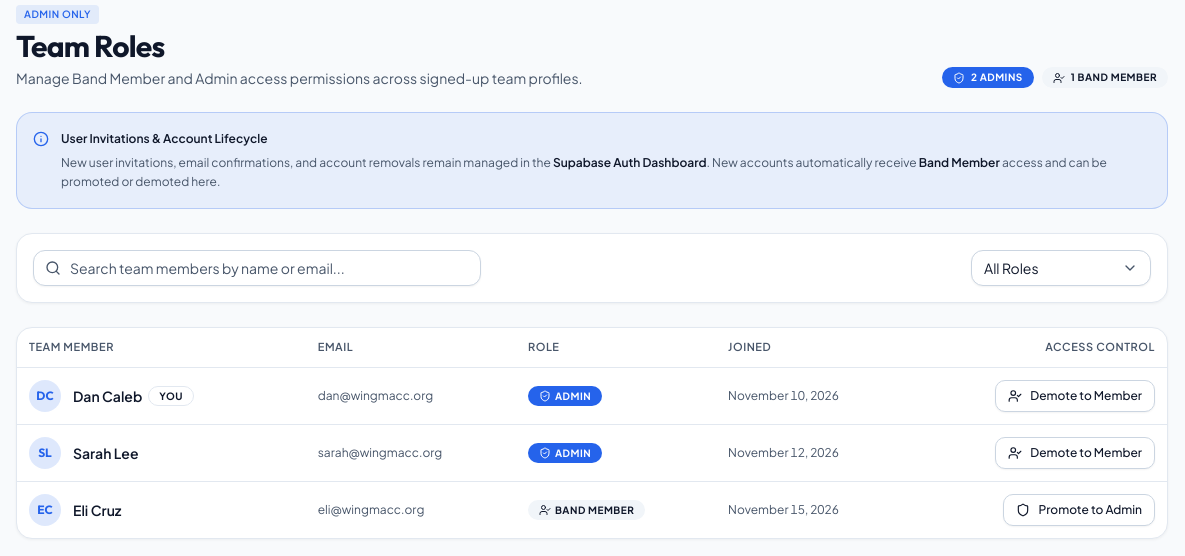
Test: TeamPage › filters profiles by search query and role dropdown with Clear Filters
This screenshot has width=1185, height=556.
Check: the text "dan@wingmacc.org" is shown, box [306, 368, 516, 424]
Check: the text "sarah@wingmacc.org" is shown, box [306, 424, 516, 482]
# Search by name or email
Type "sarah" into the search field with placeholder "Search team members by name or email..." at (257, 268), box [33, 250, 481, 286]
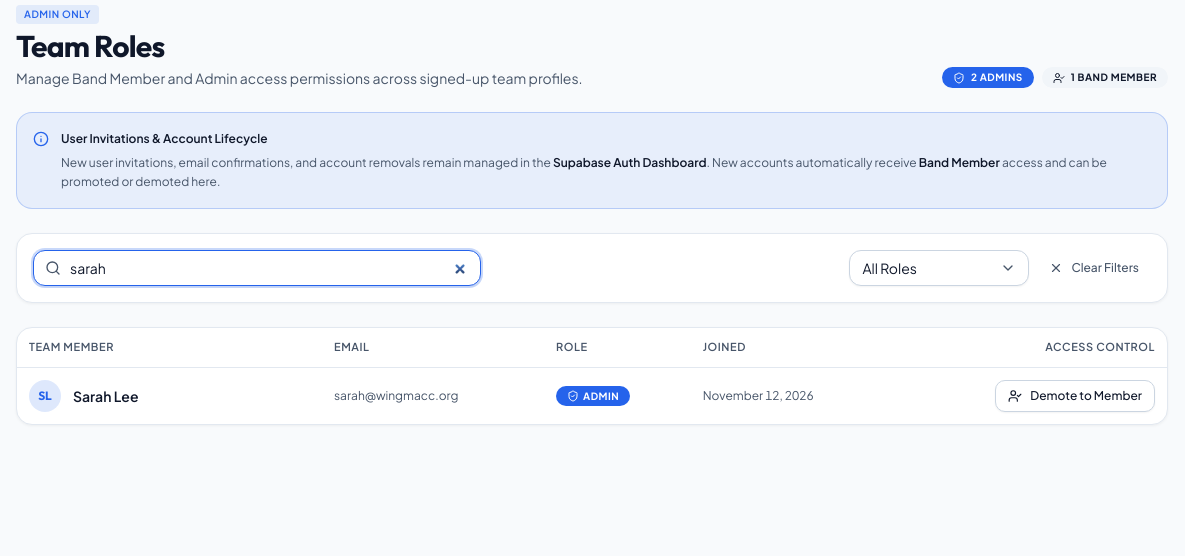
Check: the text "sarah@wingmacc.org" is shown, box [322, 368, 544, 424]
Check: the text "dan@wingmacc.org" is gone
Check: the text "eli@wingmacc.org" is gone
Click the button "Clear Filters" at (1094, 268), box [1037, 252, 1151, 284]
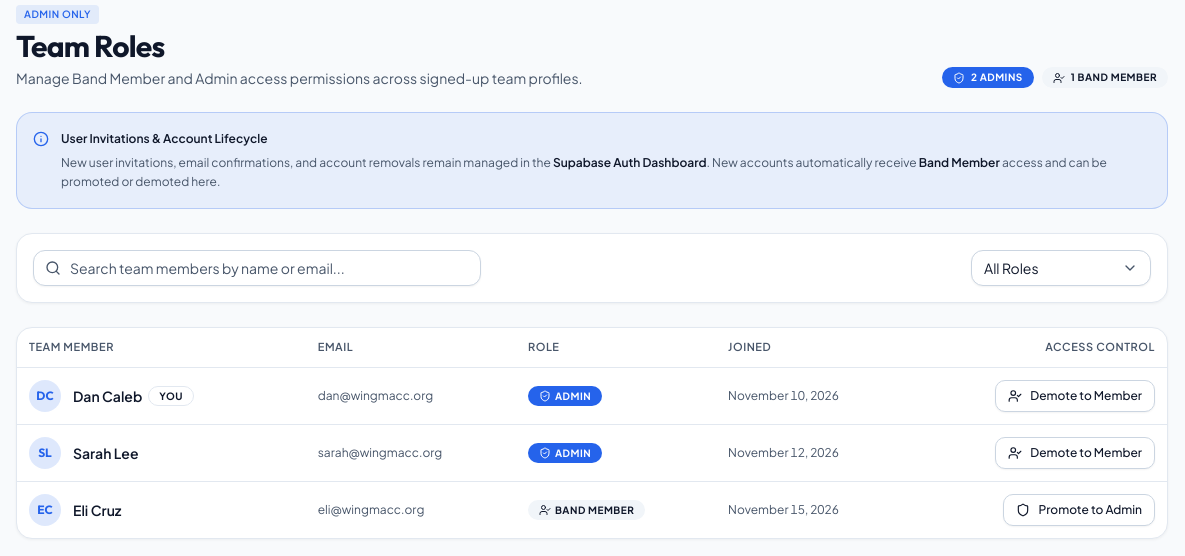
Check: the text "dan@wingmacc.org" is shown, box [306, 368, 516, 424]
Check: the text "eli@wingmacc.org" is shown, box [306, 482, 516, 538]
# Filter by Band Members
Click the dropdown named "filter by role" at (1061, 268), box [971, 250, 1151, 286]
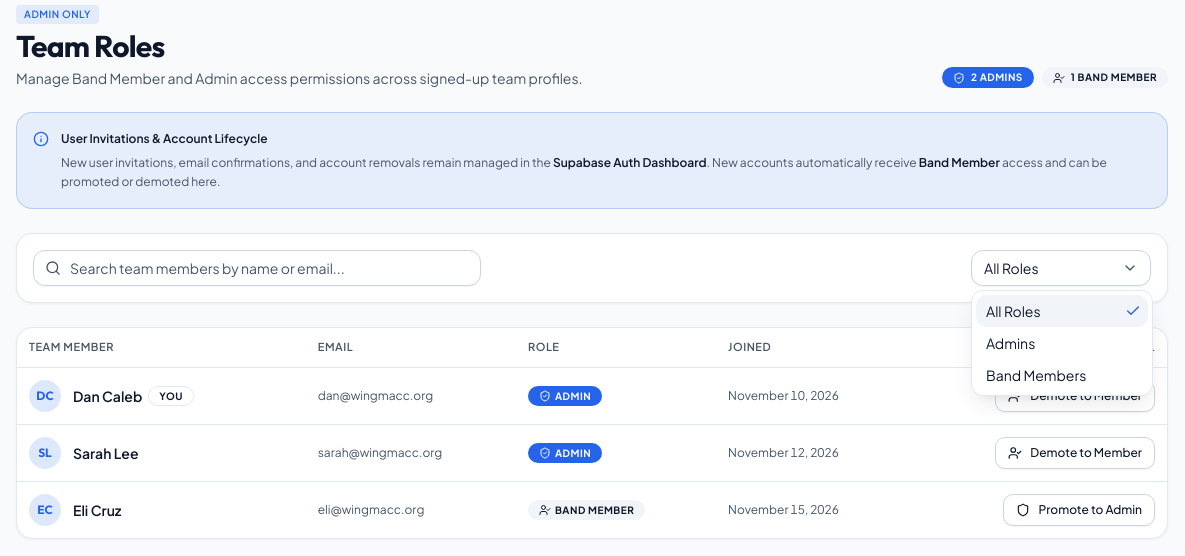
Click the option "Band Members" at (1036, 375), box [986, 366, 1086, 384]
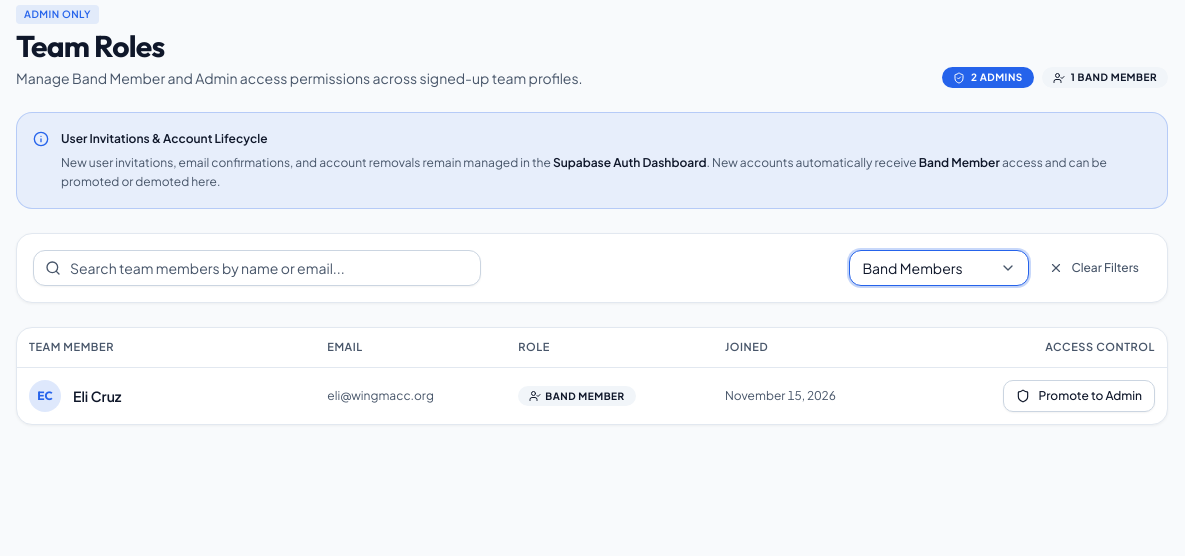
Check: the text "eli@wingmacc.org" is shown, box [315, 368, 506, 424]
Check: the text "dan@wingmacc.org" is gone
Check: the text "sarah@wingmacc.org" is gone
# Filter by Admins
Click the dropdown named "filter by role" at (939, 268), box [849, 250, 1029, 286]
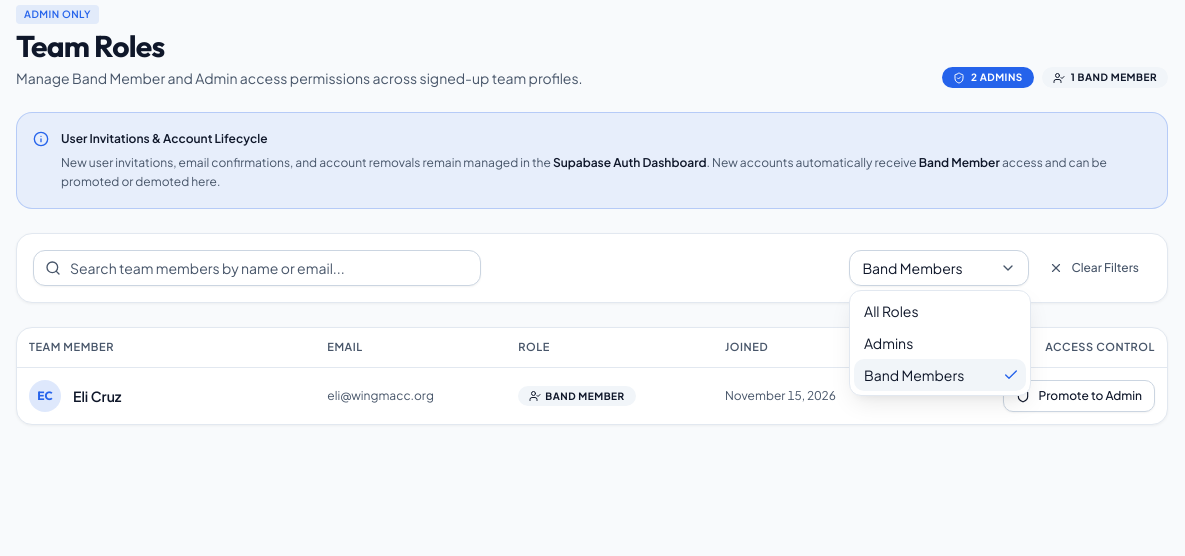
Click the option "Admins" at (889, 343), box [864, 334, 913, 352]
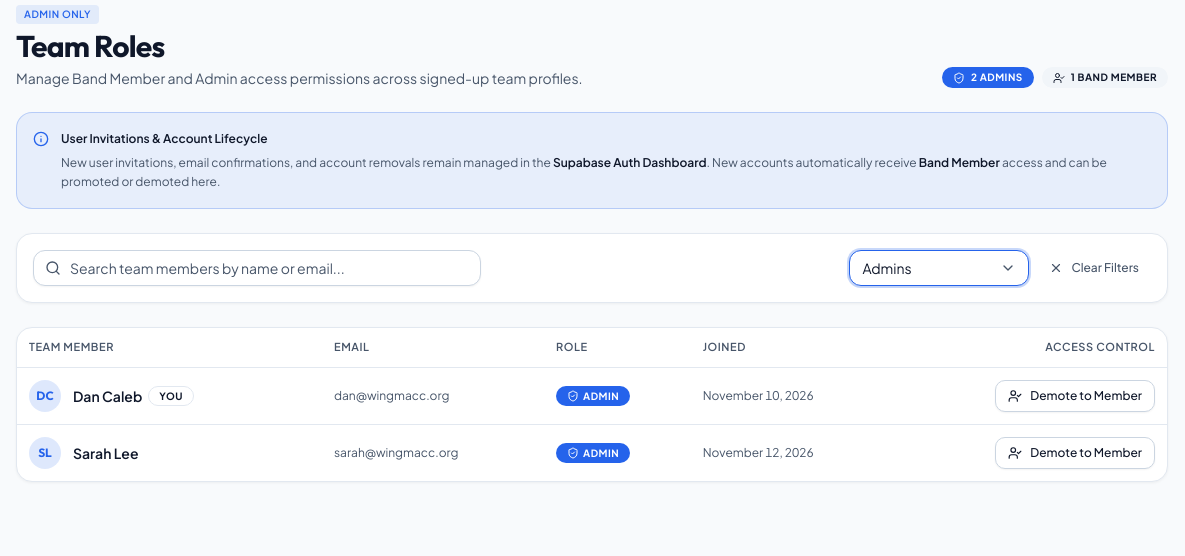
Check: the text "dan@wingmacc.org" is shown, box [322, 368, 544, 424]
Check: the text "sarah@wingmacc.org" is shown, box [322, 424, 544, 481]
Check: the text "eli@wingmacc.org" is gone
